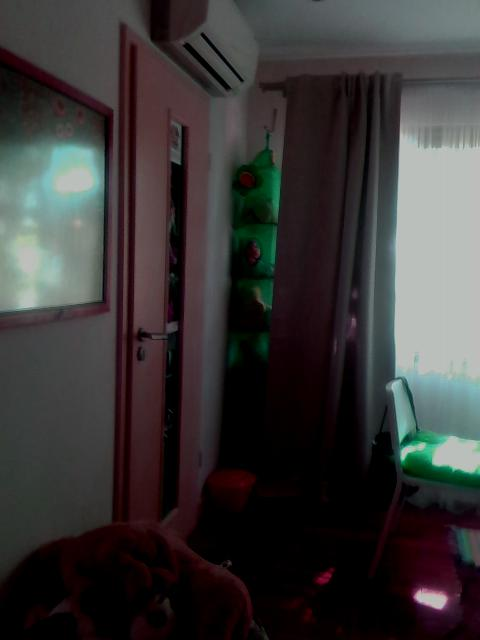closed_door: (113, 22, 218, 543)
